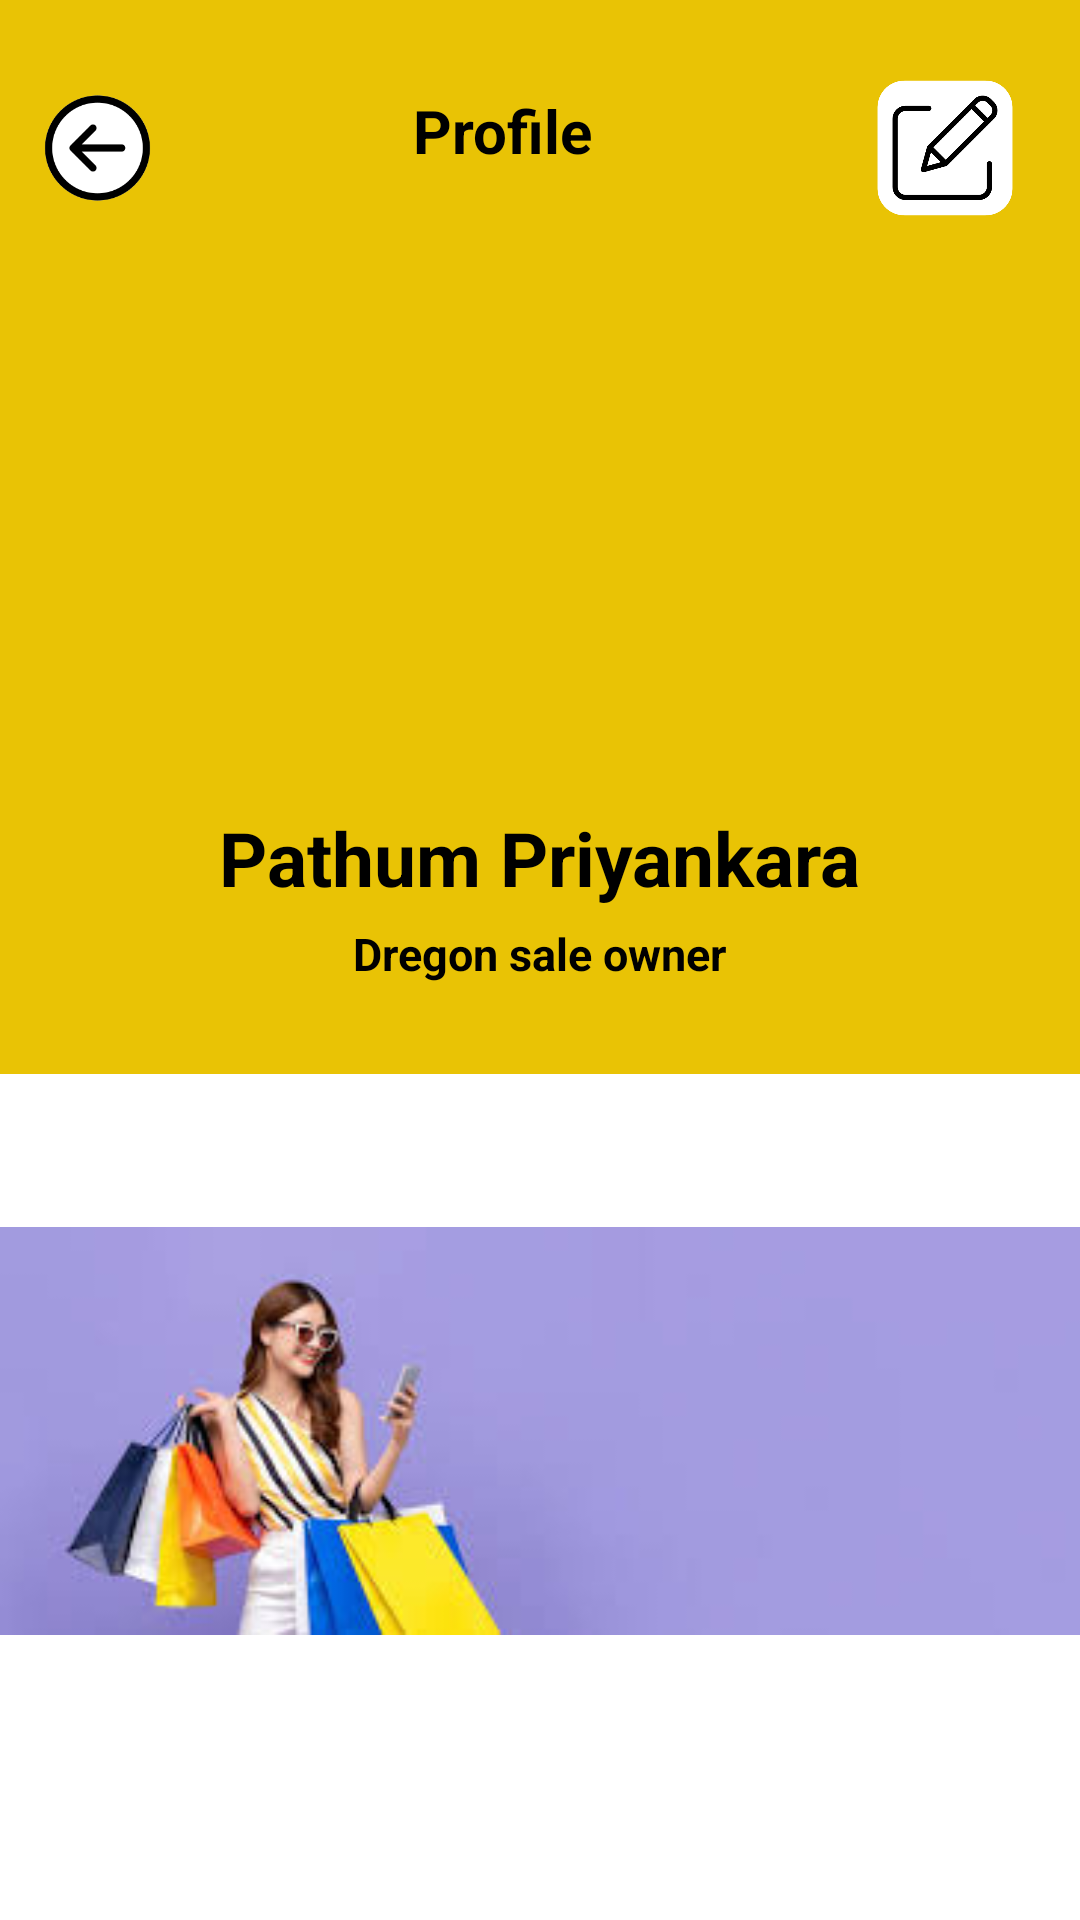

Icon click points for this 1080 × 1920 phone screenshot, format (x=x, y=y):
back: (x=97, y=148)
edit: (x=945, y=148)
